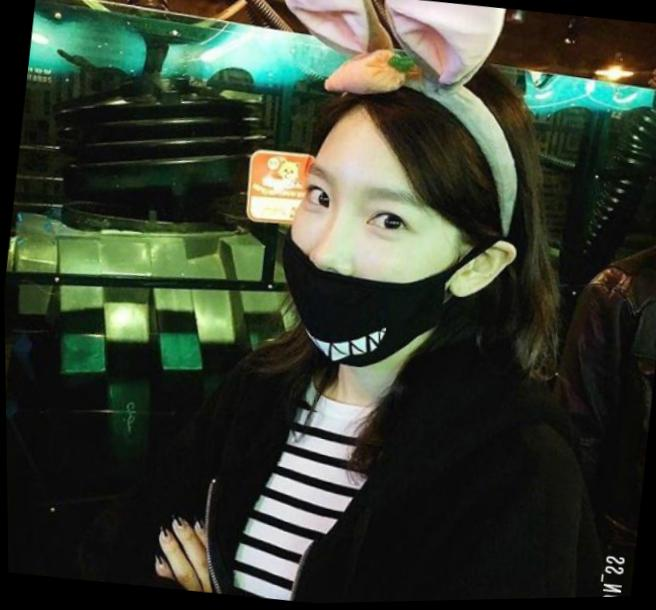WRONG: (270, 148, 450, 380)
